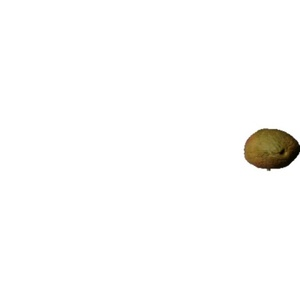mamão: (241, 122, 296, 175)
